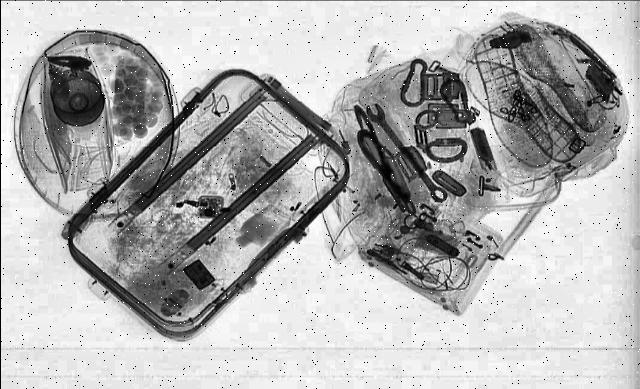Wrench: (359, 103, 453, 205)
